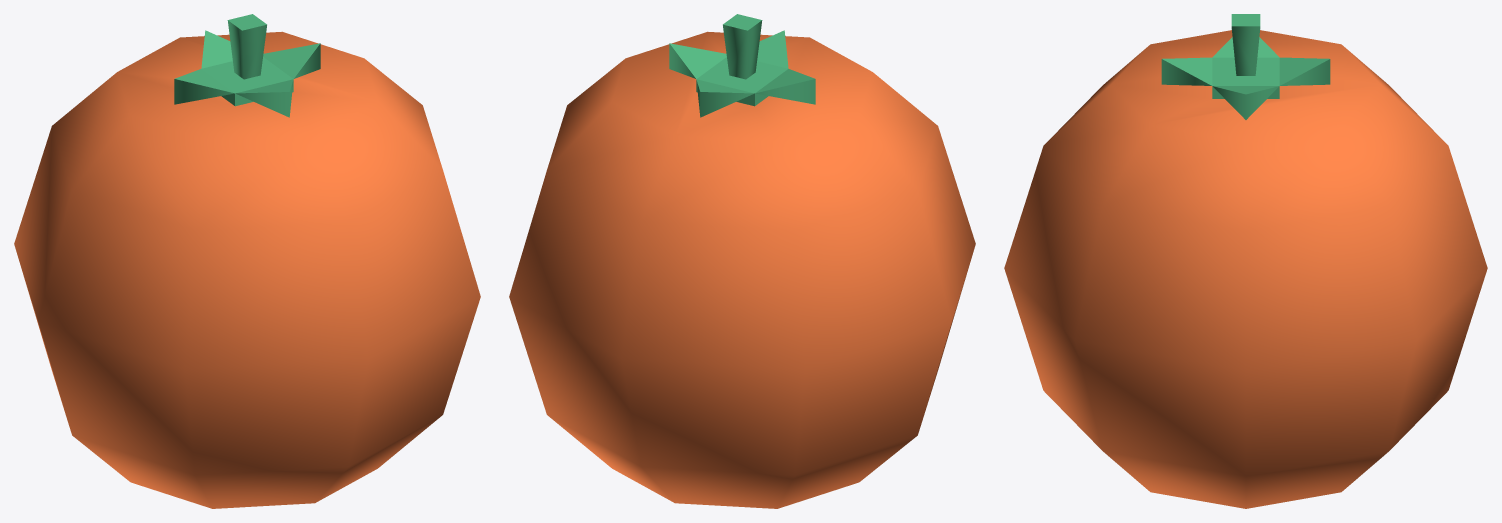
Rendered from laranja.glb.
3 renders of one model, left to right at view 1: azimuth 30°, elevation 25°; view 2: azimuth 150°, elevation 25°; view 3: azimuth 270°, elevation 25°, orthographic.
Visible parts, largest first — view 1: orange; view 2: orange; view 3: orange.
Part boxes in pixels (x1,y1,x2,y2): orange: (14, 14, 480, 508); orange: (509, 14, 975, 508); orange: (1004, 14, 1487, 508).
Size of the model in its own units: 0.1697 by 0.1672 by 0.1697.
